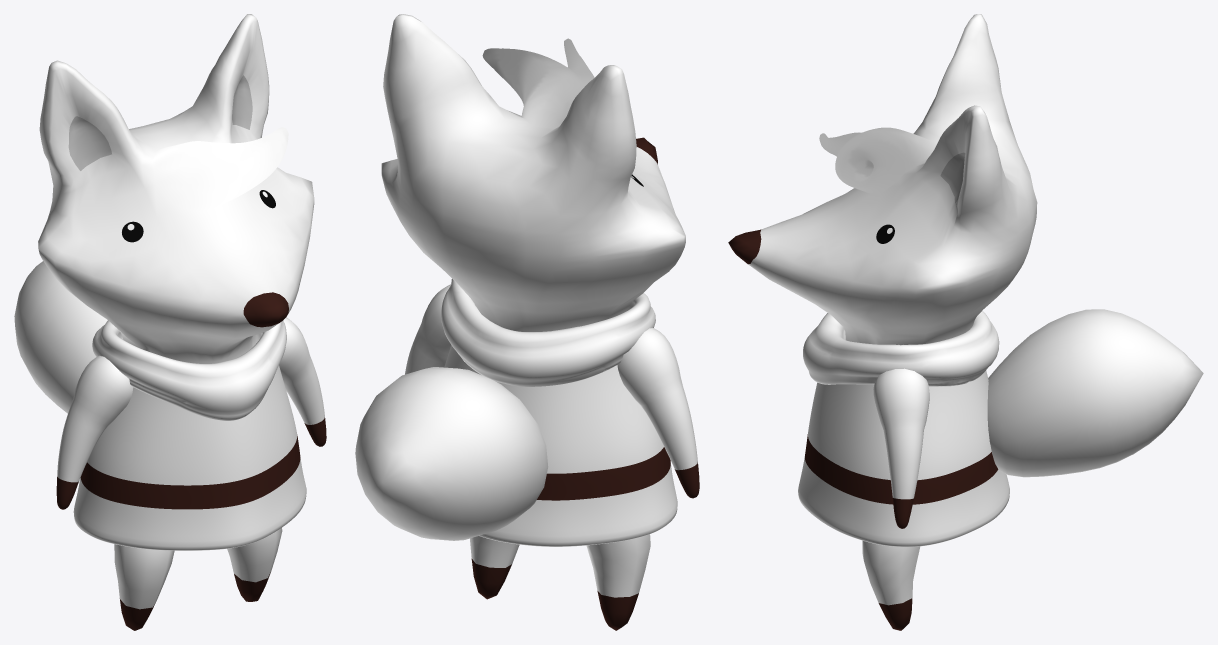
File: tunic_ghost.glb
The picture shows the model from 3 angles, left to right: view 1: azimuth 30°, elevation 25°; view 2: azimuth 150°, elevation 25°; view 3: azimuth 270°, elevation 25°; orthographic projection. The views are drawn at different scales.
Visible parts, largest first — view 1: Body, Tunic, Scraf Retopo, Arms, Tail, Hair Retopo, Legs, Eyes Temp; view 2: Body, Tail, Tunic, Scraf Retopo, Arms, Legs, Hair Retopo; view 3: Body, Tail, Tunic, Scraf Retopo, Arms, Hair Retopo, Legs.
Boxes of the visible parts, <box> form: Body: <box>38,14,314,363</box>; Tunic: <box>73,365,306,550</box>; Scraf Retopo: <box>92,320,286,420</box>; Arms: <box>56,317,326,509</box>; Tail: <box>14,261,107,413</box>; Hair Retopo: <box>152,127,288,210</box>; Legs: <box>114,528,282,630</box>; Eyes Temp: <box>122,190,275,242</box>; Body: <box>381,14,685,331</box>; Tail: <box>355,367,548,540</box>; Tunic: <box>444,345,677,546</box>; Scraf Retopo: <box>441,279,655,386</box>; Arms: <box>405,284,699,498</box>; Legs: <box>470,534,650,630</box>; Hair Retopo: <box>482,38,594,128</box>; Body: <box>728,14,1037,345</box>; Tail: <box>987,309,1203,477</box>; Tunic: <box>798,370,1009,546</box>; Scraf Retopo: <box>803,311,999,386</box>; Arms: <box>873,368,929,528</box>; Hair Retopo: <box>819,127,936,194</box>; Legs: <box>862,540,920,630</box>.
Size of the model in its own units: 1.29 by 2.48 by 1.97.
